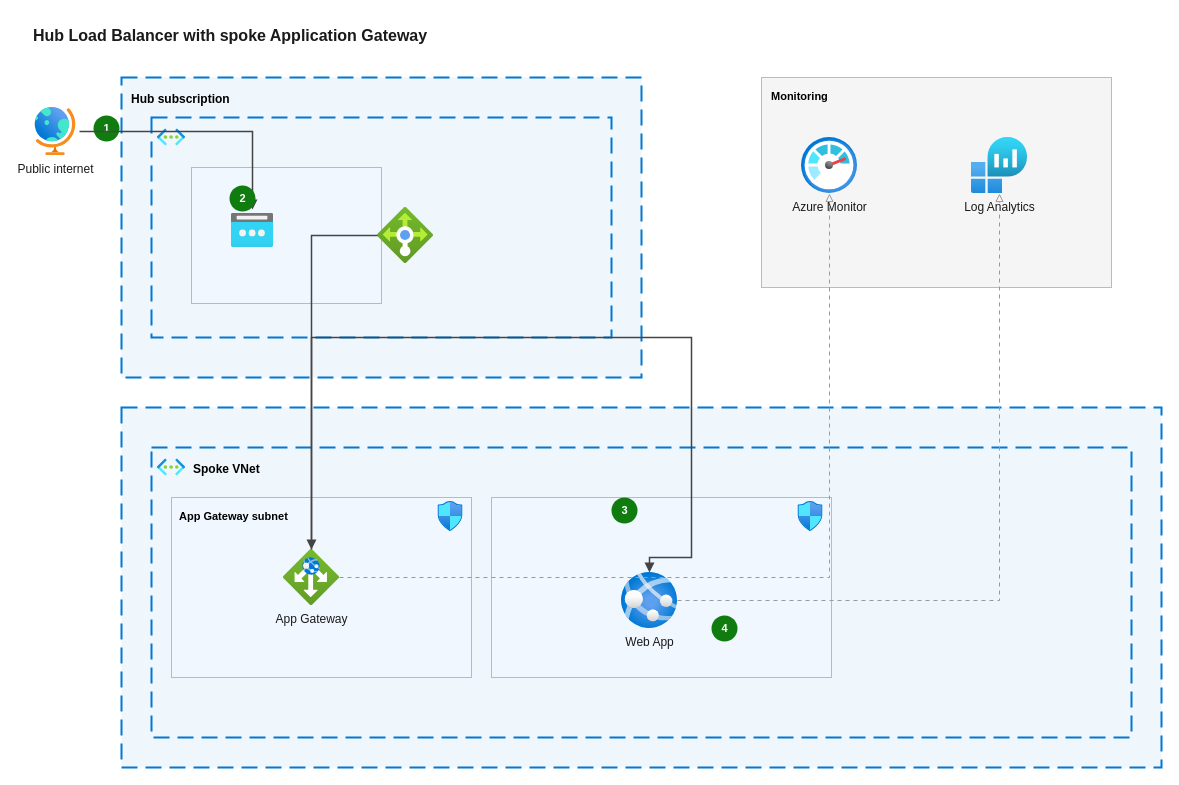
This 1179x785 diagram has some shape labels left out. The box of each missing label's shape, as (x1, y1, x2, y2) in pixels:
App subnet: (490, 496, 832, 678)
Hub VNet: (150, 116, 612, 338)
Load Balancer: (377, 207, 433, 263)
Load balancer subnet: (190, 166, 382, 304)
Public IP: (231, 209, 273, 251)
Spoke subscription: (120, 406, 1162, 768)
